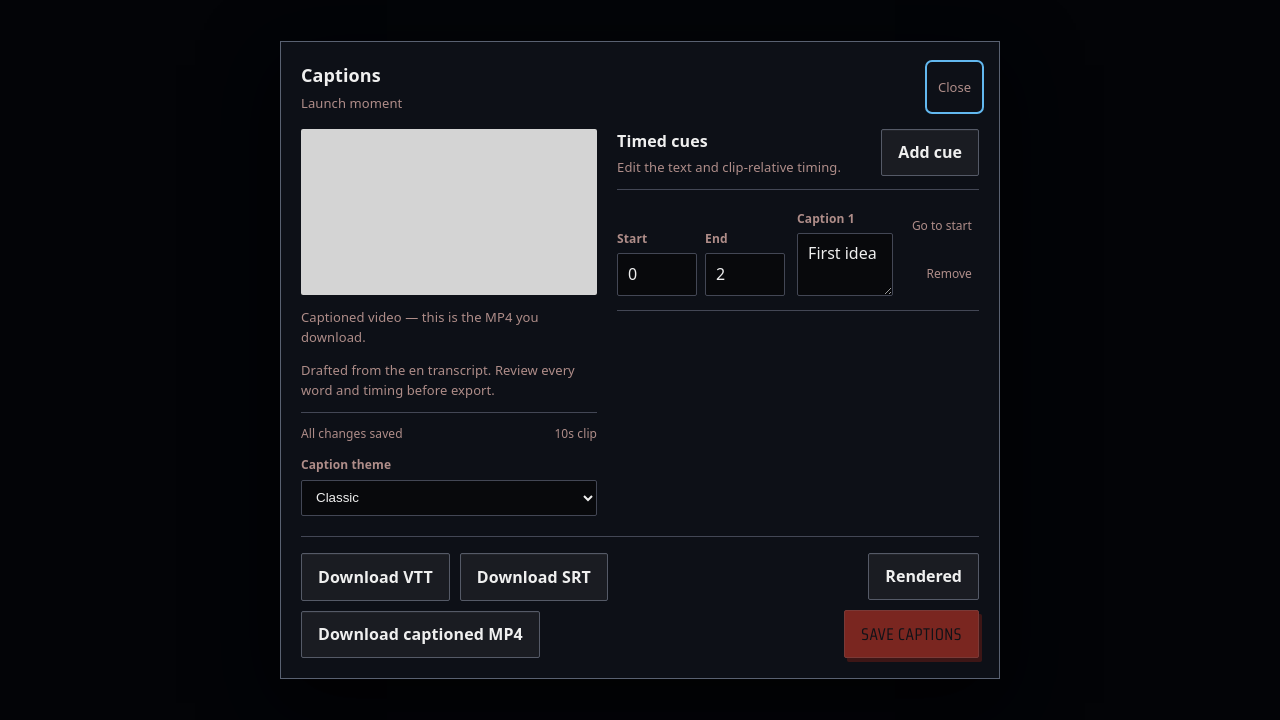
Test: CaptionEditorModal › shows the rendered captioned video and switches back to a draft preview after an edit
Replace the text in the text box named "Cue 1 text" with "New wording" at (845, 264), box [797,233,893,296]
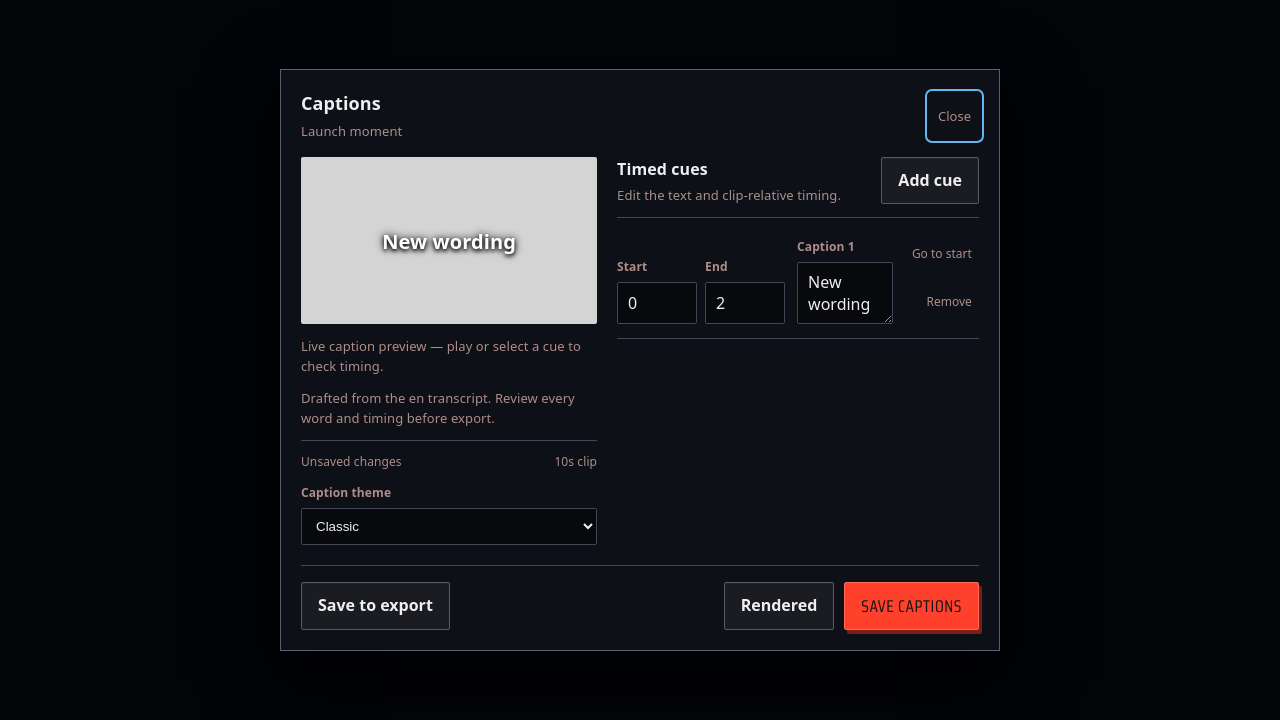
Check: the text with class "caption-preview-text" reads "New wording", box [382,228,516,255]
